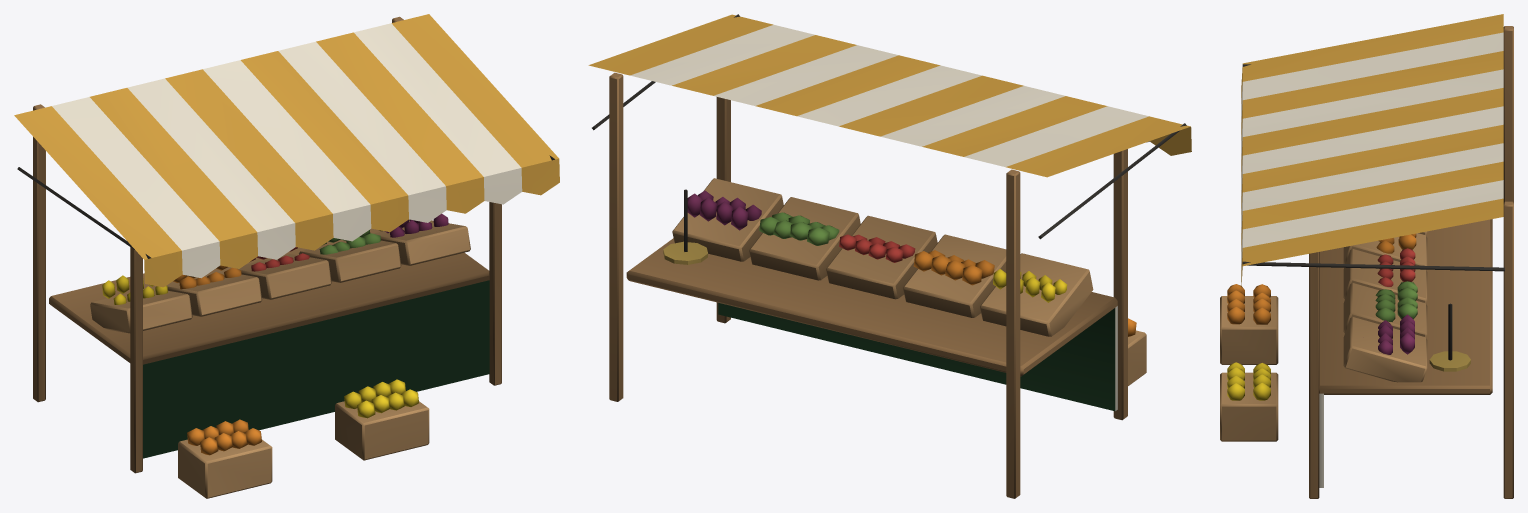
File: market_stall.glb
The picture shows the model from 3 angles, left to right: view 1: azimuth 30°, elevation 25°; view 2: azimuth 150°, elevation 25°; view 3: azimuth 270°, elevation 25°; orthographic projection. The views are drawn at different scales.
Visible parts, largest first — view 1: market_stall_mesh; view 2: market_stall_mesh; view 3: market_stall_mesh.
Part boxes in pixels (x1,y1,x2,y2): market_stall_mesh: [14, 14, 559, 498]; market_stall_mesh: [588, 14, 1191, 498]; market_stall_mesh: [1220, 14, 1513, 498].
Bounding box in the file's own units: 3.7 × 2.5 × 2.27.
